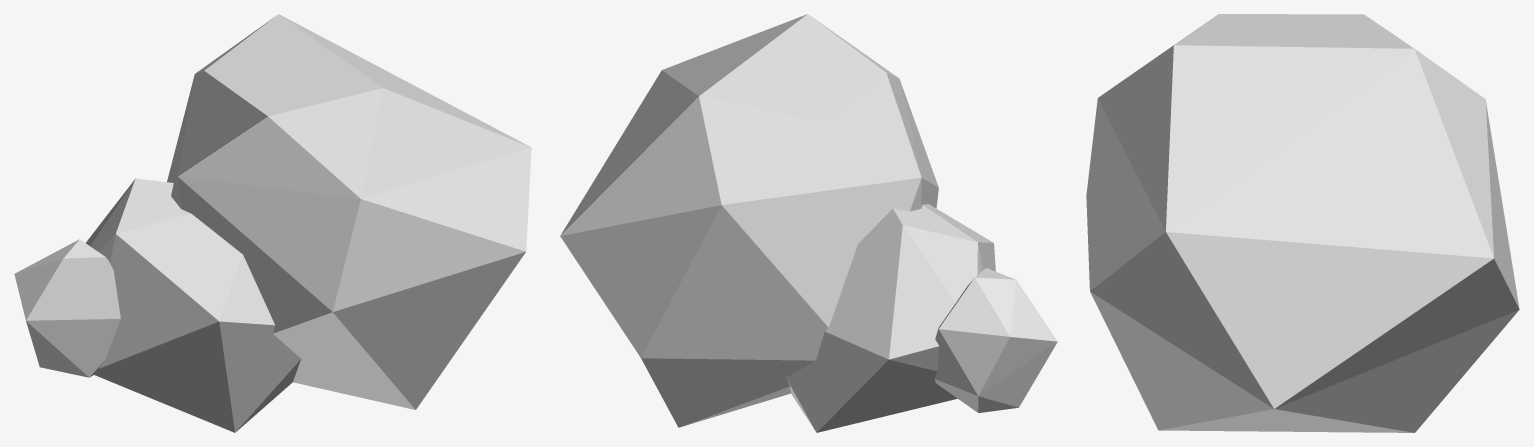
Rendered from Cloud_1_5.fbx.
The picture shows the model from 3 angles, left to right: view 1: azimuth 30°, elevation 25°; view 2: azimuth 150°, elevation 25°; view 3: azimuth 270°, elevation 25°; orthographic projection. The views are drawn at different scales.
Parts seen in each view (by area): view 1: Cloud_1_5; view 2: Cloud_1_5; view 3: Cloud_1_5.
Boxes of the visible parts, left/top/right/bottom form: Cloud_1_5: left=14, top=14, right=531, bottom=432; Cloud_1_5: left=560, top=14, right=1057, bottom=432; Cloud_1_5: left=1086, top=14, right=1519, bottom=432.
Bounding box in the file's own units: 152 × 100 × 104.
